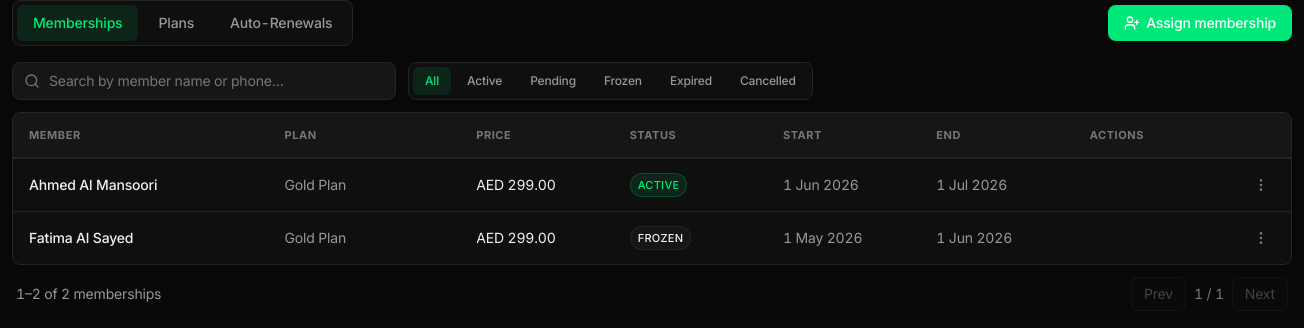
it: MembershipsClient › switches to Plans tab
The image size is (1304, 328).
Click the button "Plans" at x=176, y=23, box [142,5,210,41]
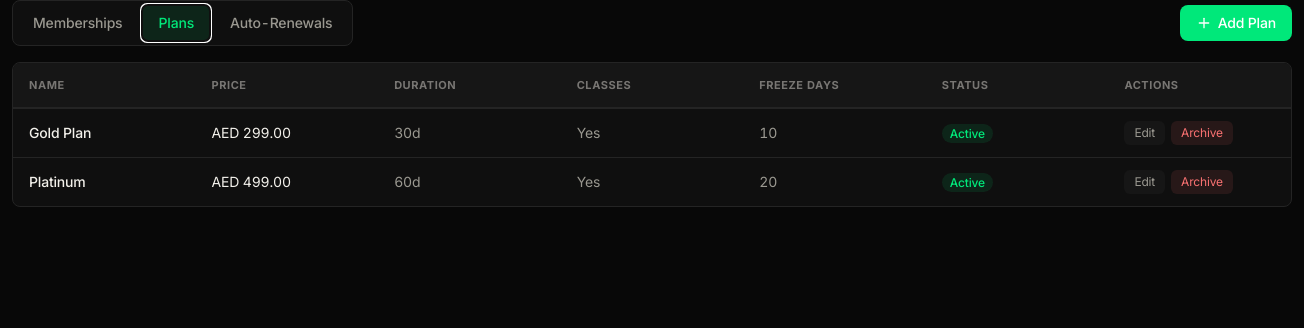
Now the button "Add Plan" is shown, box [1180,5,1292,41]
